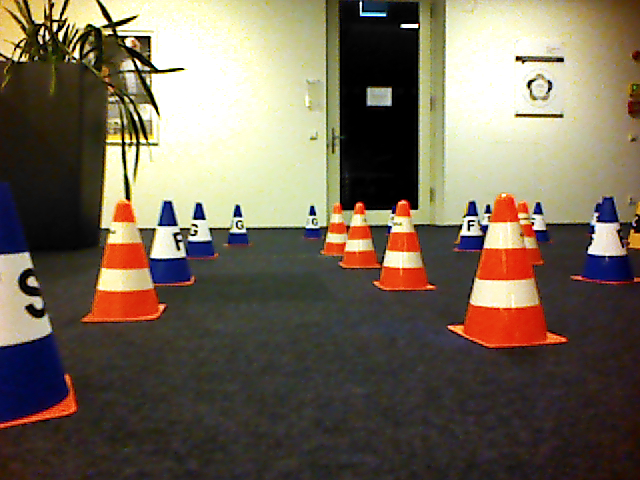bluecone: (572, 197, 640, 287), (151, 200, 197, 287)
orangeconesmall: (377, 198, 440, 292), (341, 200, 381, 269)
